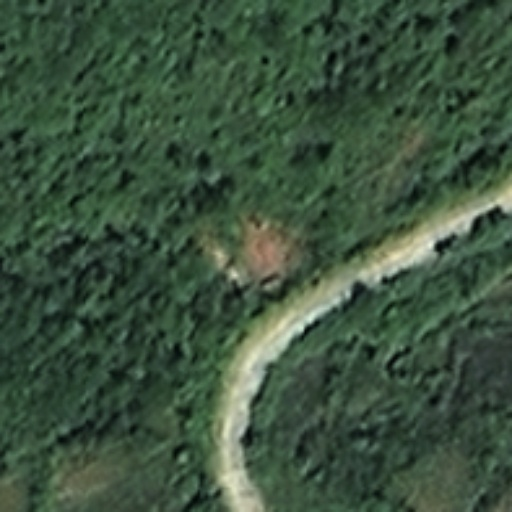landslide: (211, 213, 297, 288)
